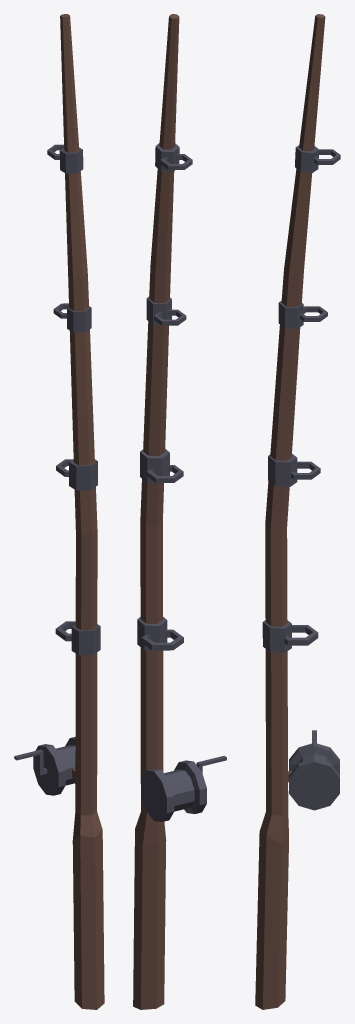
The model's file is FishingRod_Lvl2.glb.
3 renders of one model, left to right at view 1: azimuth 30°, elevation 25°; view 2: azimuth 210°, elevation 25°; view 3: azimuth 270°, elevation 25°, orthographic. The views are drawn at different scales.
Parts seen in each view (by area): view 1: FishingRod_Lvl2; view 2: FishingRod_Lvl2; view 3: FishingRod_Lvl2.
Boxes of the visible parts, x1=… form: FishingRod_Lvl2: x1=14, y1=14, x2=104, y2=1009; FishingRod_Lvl2: x1=133, y1=14, x2=226, y2=1009; FishingRod_Lvl2: x1=255, y1=14, x2=340, y2=1009.
Bounding box in the file's own units: 0.4704 × 6.34 × 0.4965.
